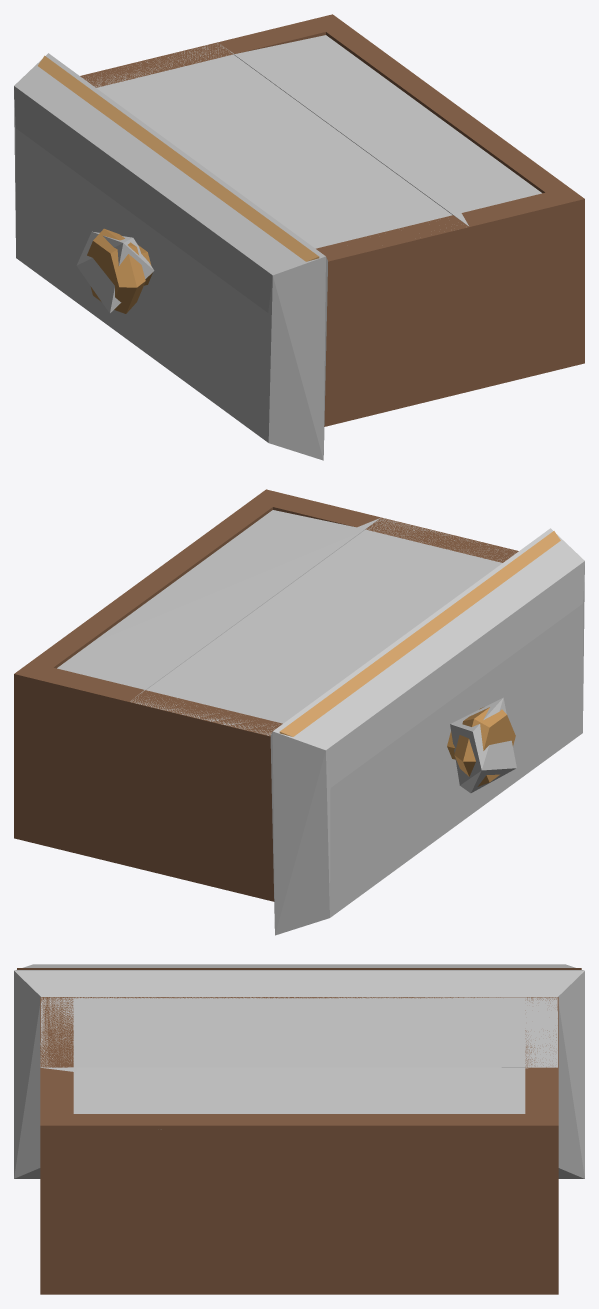
Rendered from SM_Prop_Desk_02_Drawer_01.fbx.
3 renders of one model, top to bottom at view 1: azimuth 30°, elevation 25°; view 2: azimuth 150°, elevation 25°; view 3: azimuth 270°, elevation 25°, orthographic. The views are drawn at different scales.
Visible parts, largest first — view 1: SM_Prop_Desk_02_Drawer_01_ConvexHulls, SM_Prop_Desk_02_Drawer_01; view 2: SM_Prop_Desk_02_Drawer_01_ConvexHulls, SM_Prop_Desk_02_Drawer_01; view 3: SM_Prop_Desk_02_Drawer_01, SM_Prop_Desk_02_Drawer_01_ConvexHulls.
Part boxes in pixels (left/top/right/bottom): SM_Prop_Desk_02_Drawer_01_ConvexHulls: left=14, top=35, right=541, bottom=460; SM_Prop_Desk_02_Drawer_01: left=38, top=14, right=584, bottom=426; SM_Prop_Desk_02_Drawer_01_ConvexHulls: left=57, top=510, right=584, bottom=935; SM_Prop_Desk_02_Drawer_01: left=14, top=489, right=560, bottom=901; SM_Prop_Desk_02_Drawer_01: left=17, top=968, right=581, bottom=1294; SM_Prop_Desk_02_Drawer_01_ConvexHulls: left=14, top=964, right=584, bottom=1178.
Bounding box in the file's own units: 33.27 × 44.09 × 17.84.
2 materials, 1 textured.
